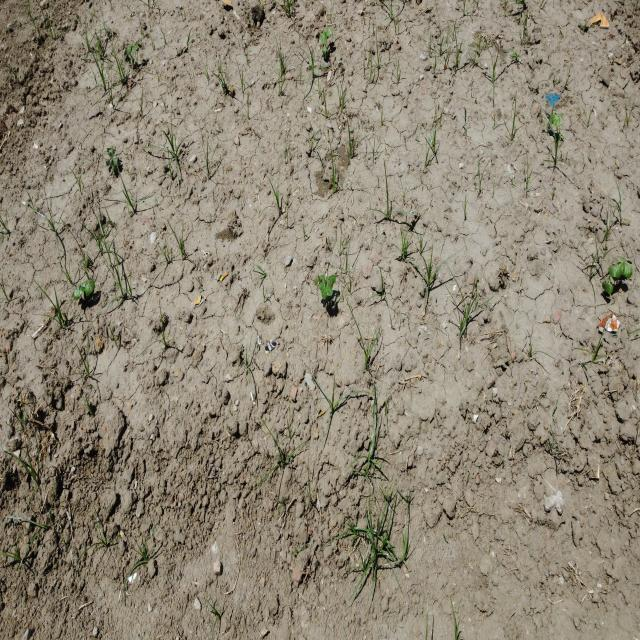seedling_s3: (619, 262, 633, 278), (326, 275, 336, 296), (85, 279, 95, 297), (73, 285, 84, 301), (319, 280, 327, 300), (609, 265, 621, 278), (602, 282, 613, 296), (617, 255, 632, 265), (552, 113, 561, 127), (318, 31, 326, 45), (326, 28, 333, 38), (126, 44, 132, 55), (132, 44, 139, 52), (108, 149, 115, 157), (557, 113, 564, 121), (322, 44, 327, 54), (114, 158, 119, 167), (112, 165, 116, 172), (131, 57, 134, 63)
